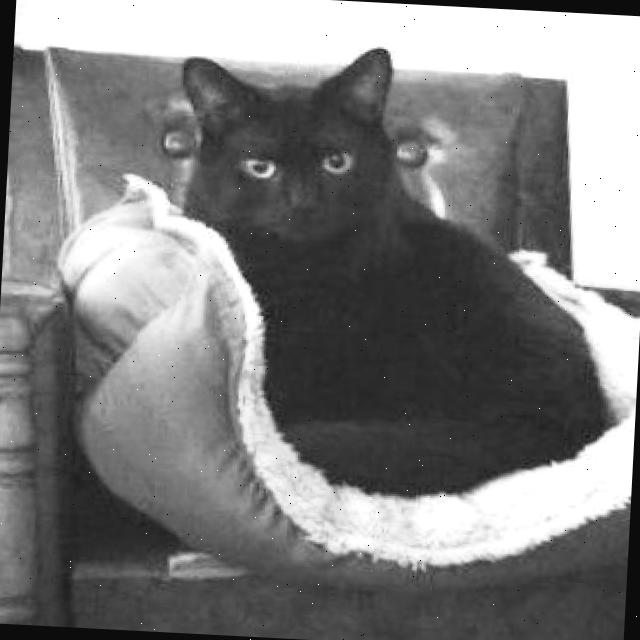bombay_cat: (164, 22, 416, 284)
